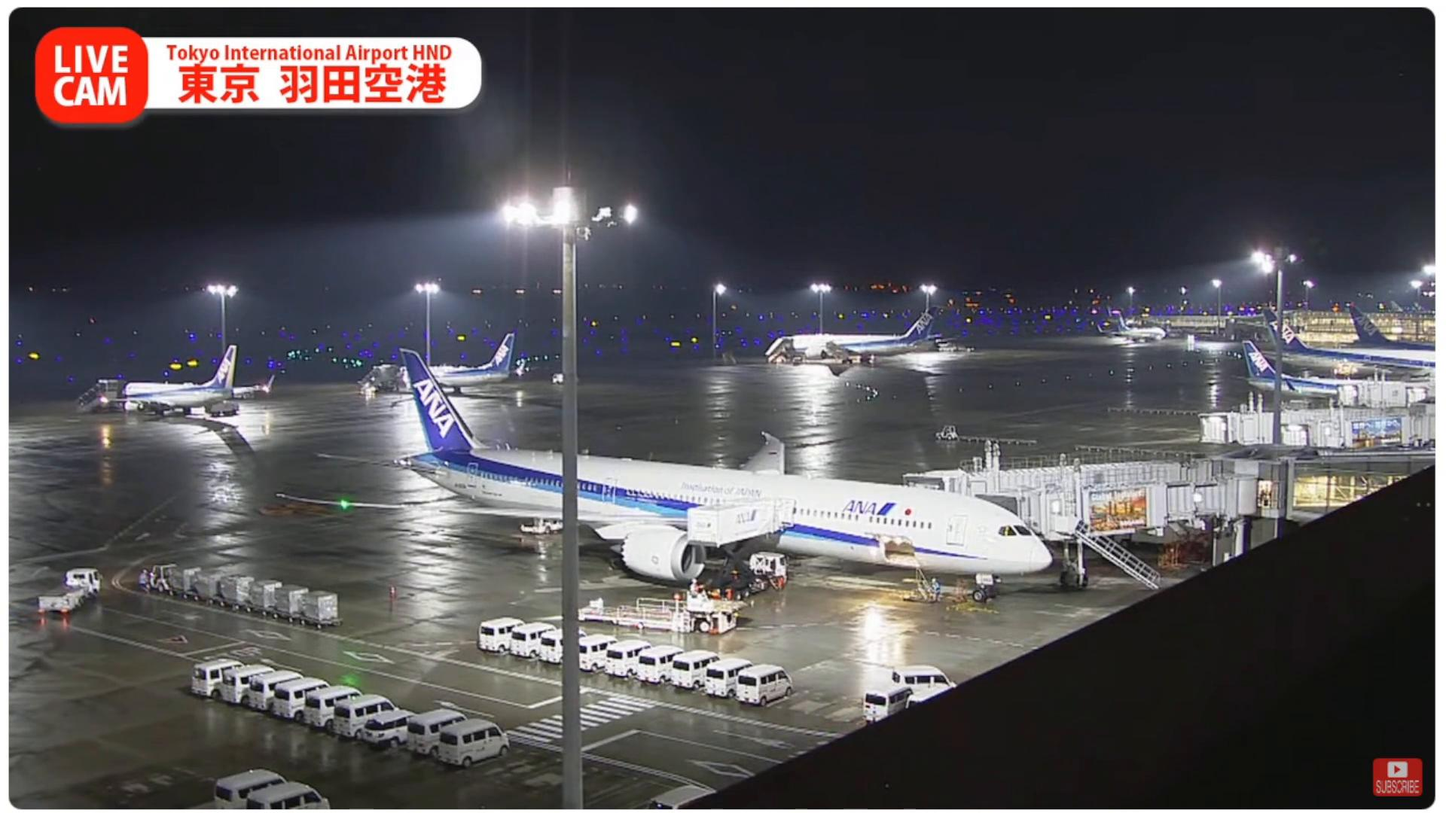Aerobridge: (985, 471, 1284, 539), (899, 458, 1292, 499)
Airplane: (265, 341, 1054, 590)
Catering: (683, 495, 786, 600)
Dolly: (177, 555, 362, 642)
JCPL: (586, 583, 752, 641)
Tractor: (139, 557, 180, 603)
Window: (1286, 461, 1434, 519)
